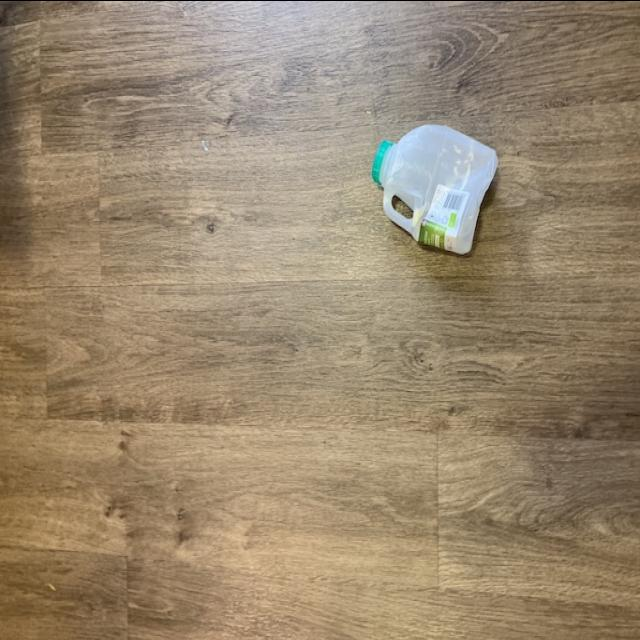litter: (372, 110, 502, 262)
